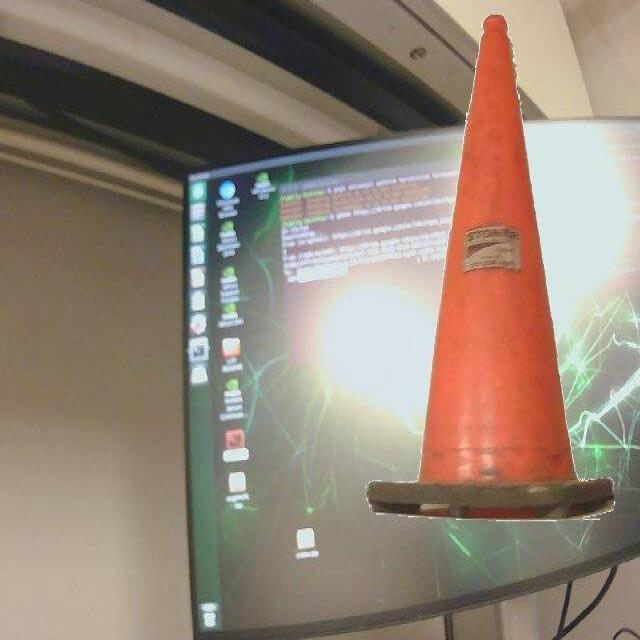traffic cone: (359, 4, 621, 539)
